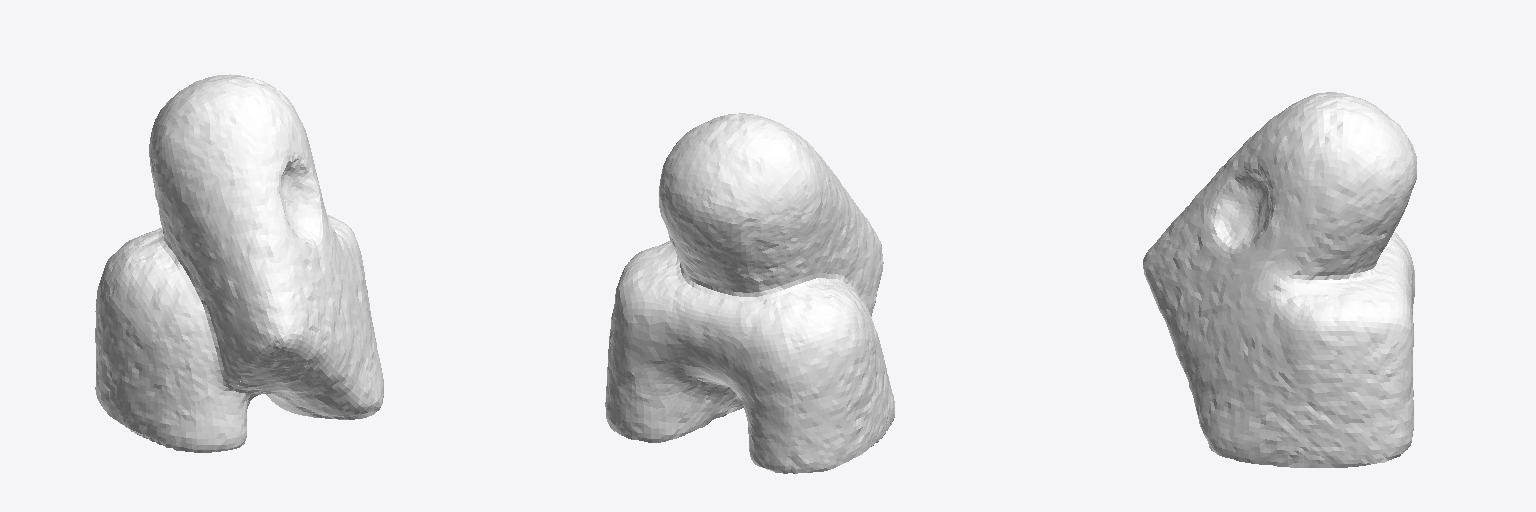
The model's file is ScaleMan_20K.obj.
3 renders of one model, left to right at view 1: azimuth 30°, elevation 25°; view 2: azimuth 150°, elevation 25°; view 3: azimuth 270°, elevation 25°, orthographic.
Visible parts, largest first — view 1: s_h_OurBricks_Bornholm_ScaleMan_20K; view 2: s_h_OurBricks_Bornholm_ScaleMan_20K; view 3: s_h_OurBricks_Bornholm_ScaleMan_20K.
Part boxes in pixels (x1,y1,x2,y2): s_h_OurBricks_Bornholm_ScaleMan_20K: (95, 74, 383, 452); s_h_OurBricks_Bornholm_ScaleMan_20K: (605, 113, 894, 473); s_h_OurBricks_Bornholm_ScaleMan_20K: (1143, 92, 1416, 467).
Bounding box in the file's own units: 257 × 313 × 251.